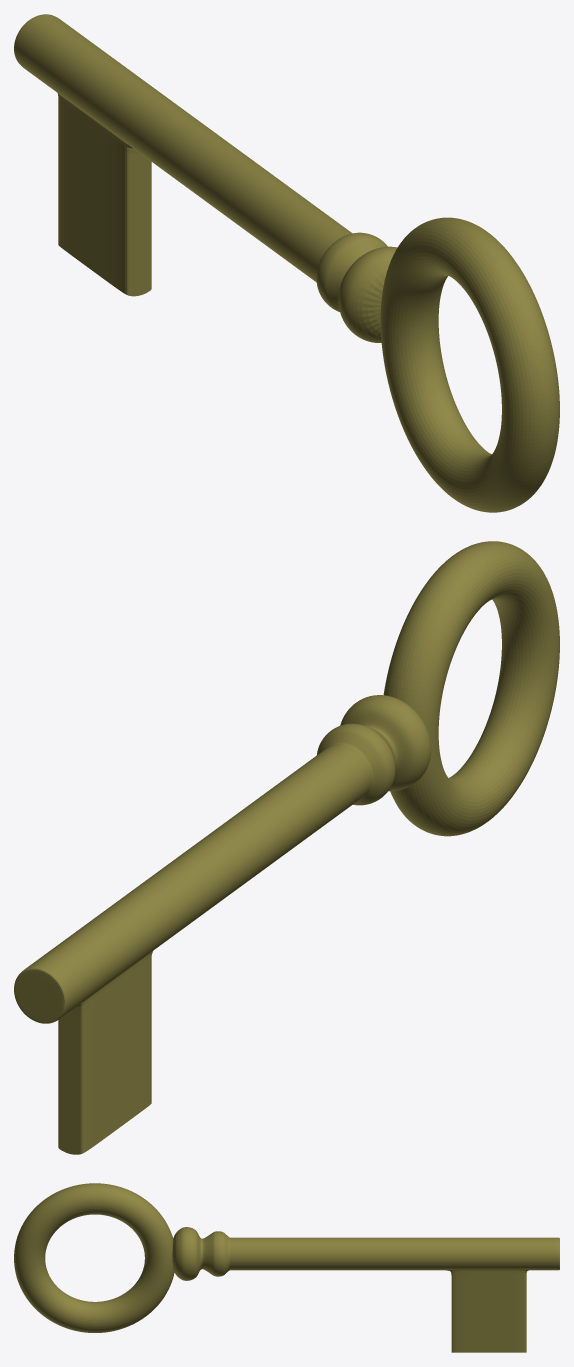
Rendered from Escape Room Key.fbx.
The picture shows the model from 3 angles, top to bottom: view 1: azimuth 30°, elevation 25°; view 2: azimuth 150°, elevation 25°; view 3: azimuth 270°, elevation 25°; orthographic projection. The views are drawn at different scales.
Visible parts, largest first — view 1: Golden Key; view 2: Golden Key; view 3: Golden Key.
Part boxes in pixels (x1,y1,x2,y2): Golden Key: (14, 14, 559, 512); Golden Key: (14, 541, 559, 1154); Golden Key: (14, 1183, 559, 1352).
Size of the model in its own units: 3.17 by 10.81 by 32.13.
